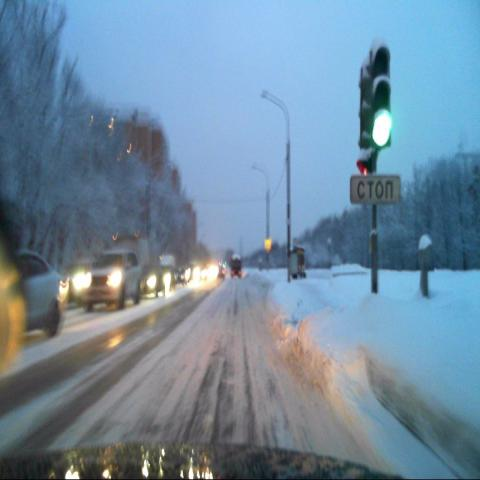6_16: (349, 175, 400, 203)
